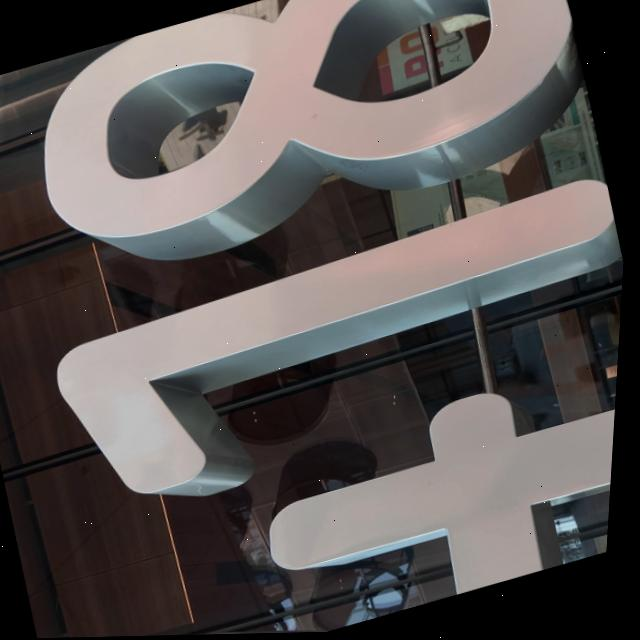character: (29, 163, 630, 516), (10, 340, 619, 639), (0, 0, 600, 270)
